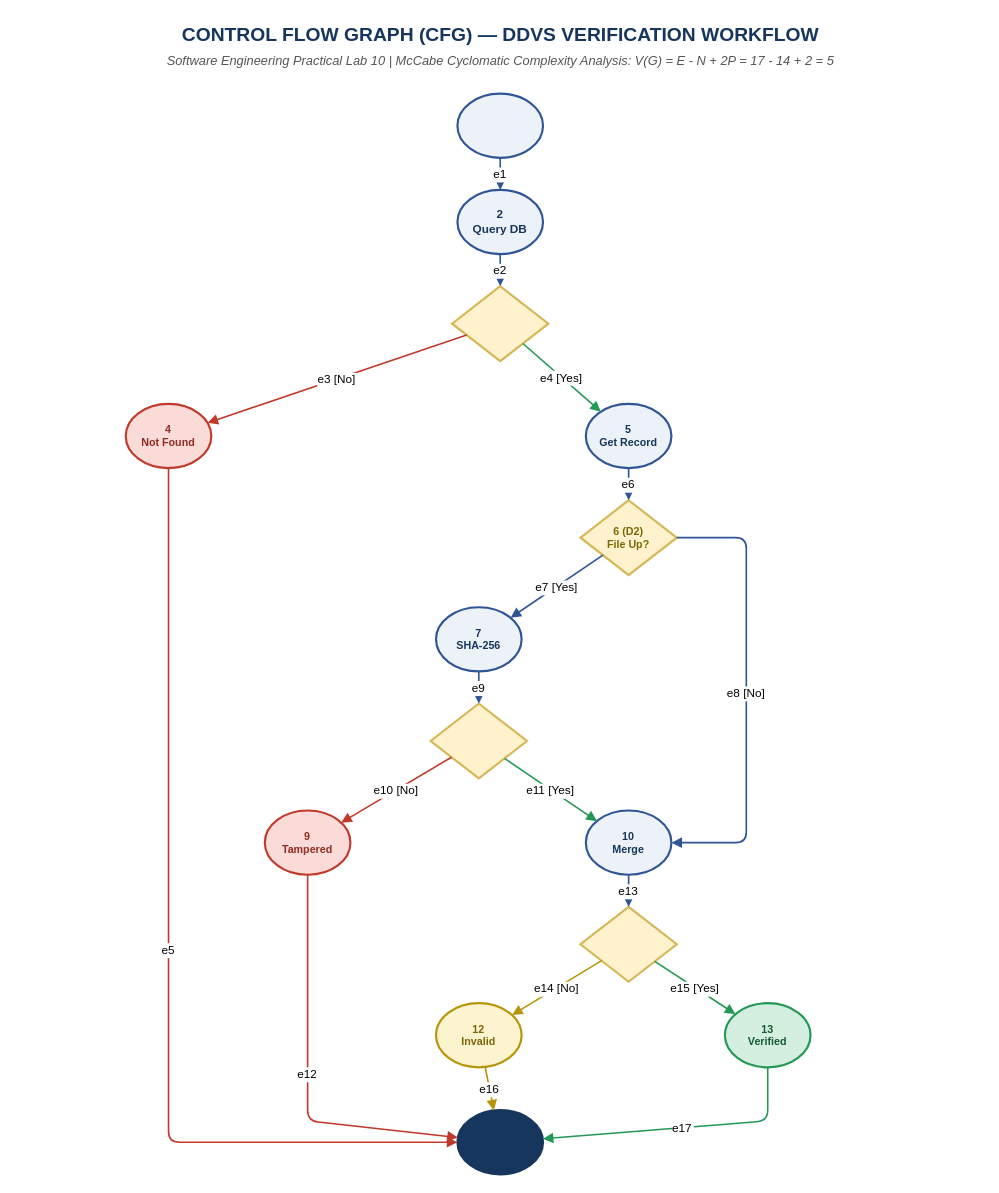
Some shapes in this 999 by 1193 pixel diagram are drawn without their labels. The shapes that lost their labels are listed below. From the top down, each one's centre as x and y in pixels, then its label:
At point (500, 125): "1 Entry / Parse".
At point (499, 323): "3 (D1) Found?".
At point (478, 740): "8 (D3) Match?".
At point (628, 943): "11 (D4) Active?".
At point (500, 1142): "14 Exit".
